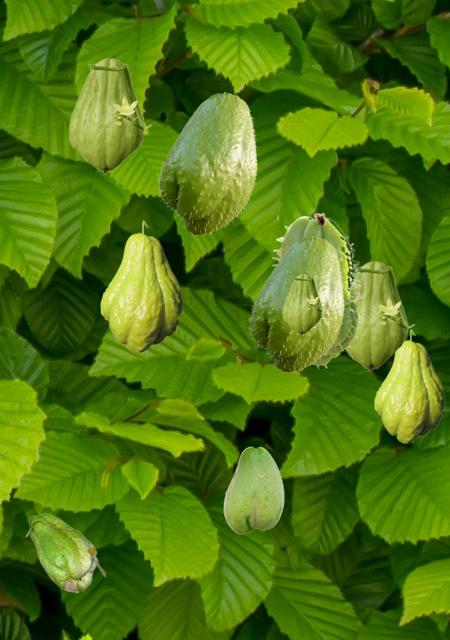sayote: (156, 92, 257, 236), (271, 212, 362, 370), (247, 236, 344, 373), (100, 220, 182, 352), (68, 58, 151, 173), (374, 329, 444, 442), (345, 261, 414, 370), (25, 513, 104, 592), (223, 446, 283, 533), (282, 274, 325, 334)
